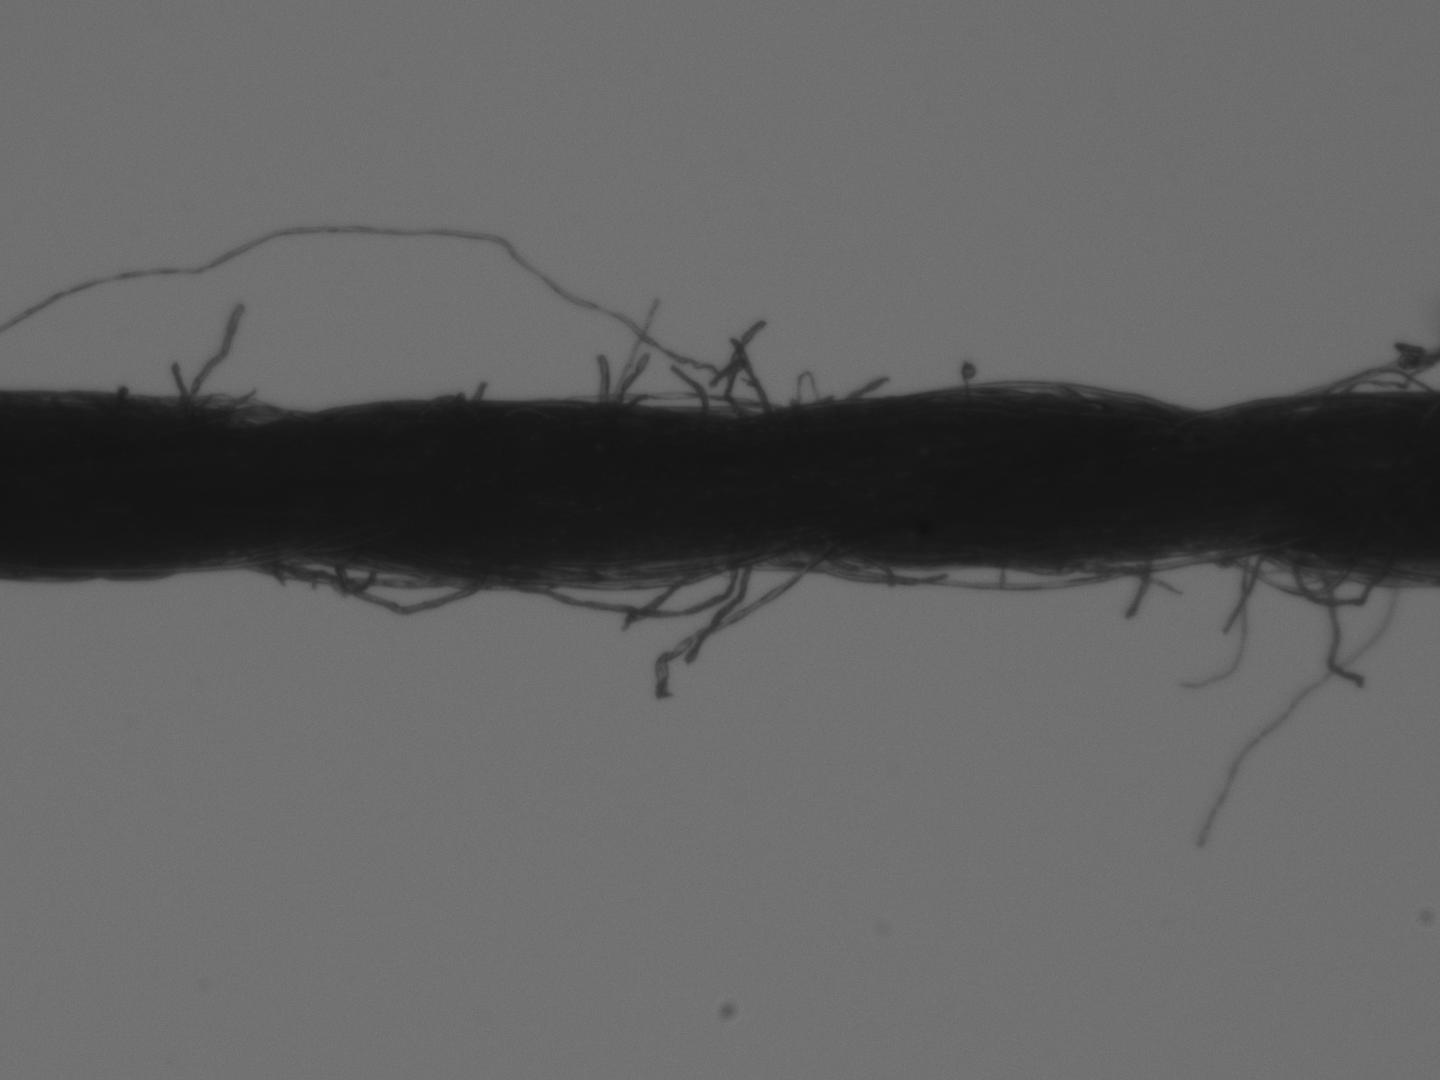loop_fiber: (3, 219, 757, 423), (823, 535, 1298, 599), (234, 545, 493, 623), (501, 556, 752, 624), (1291, 358, 1439, 414), (1290, 539, 1400, 610), (781, 364, 839, 419)
protruding_fiber: (173, 298, 249, 414), (1120, 551, 1161, 630), (667, 363, 711, 417)
